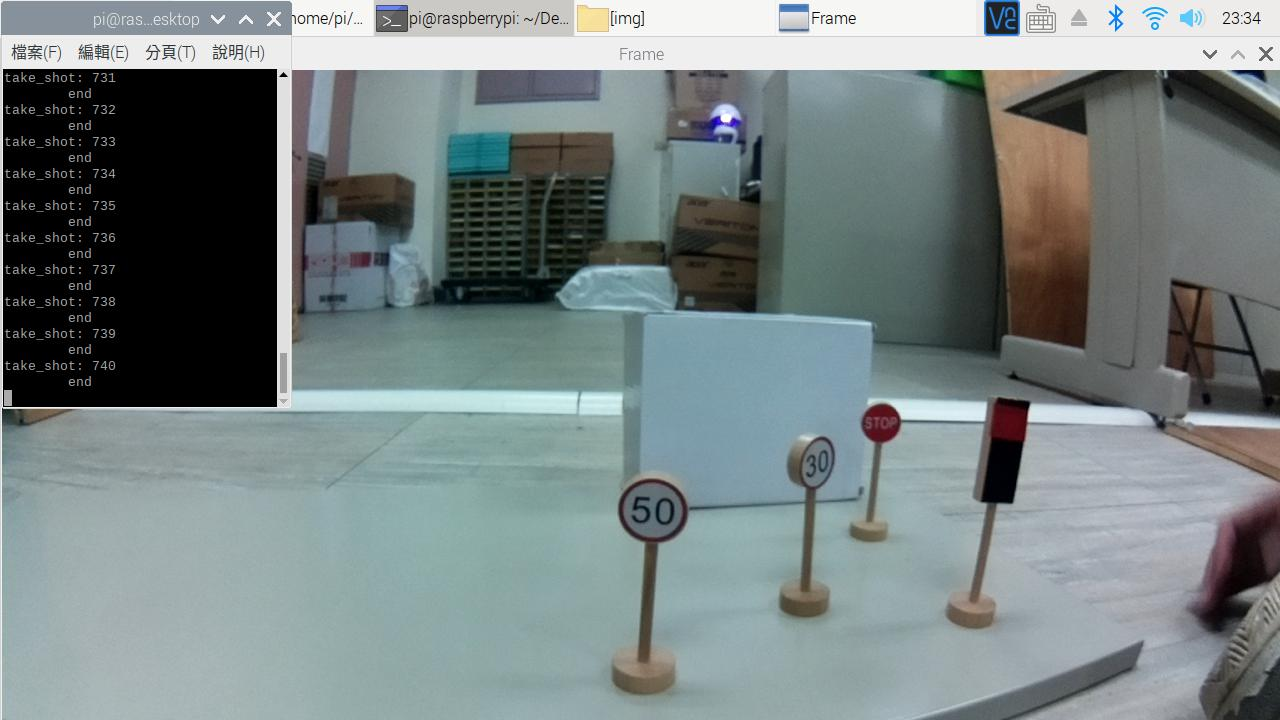Red: (969, 393, 1040, 520)
Speed30: (773, 426, 850, 495)
Speed50: (607, 452, 696, 551)
Stop: (859, 394, 903, 442)
